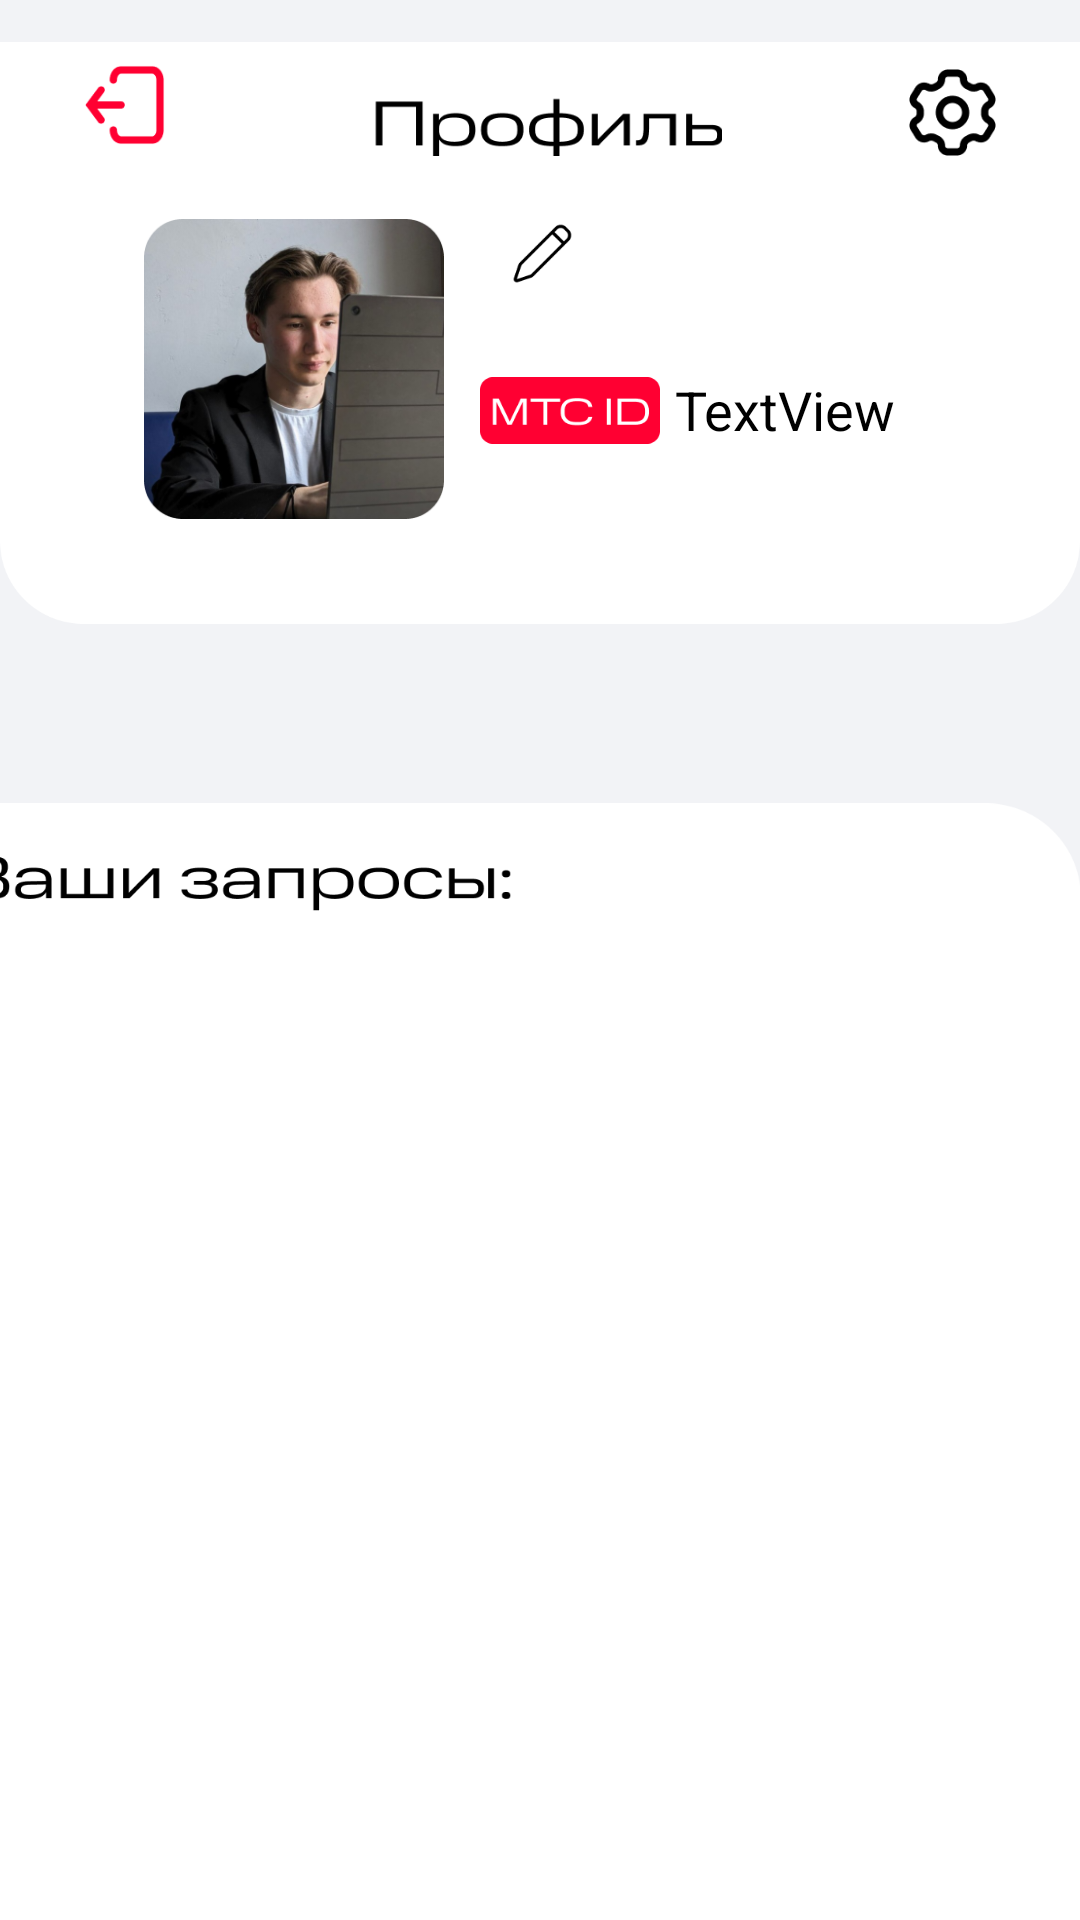

Screen size 1080w x 1920h. Icon name, then its center in pixels as (x,y):
pencil: (542,253)
settings: (952,112)
